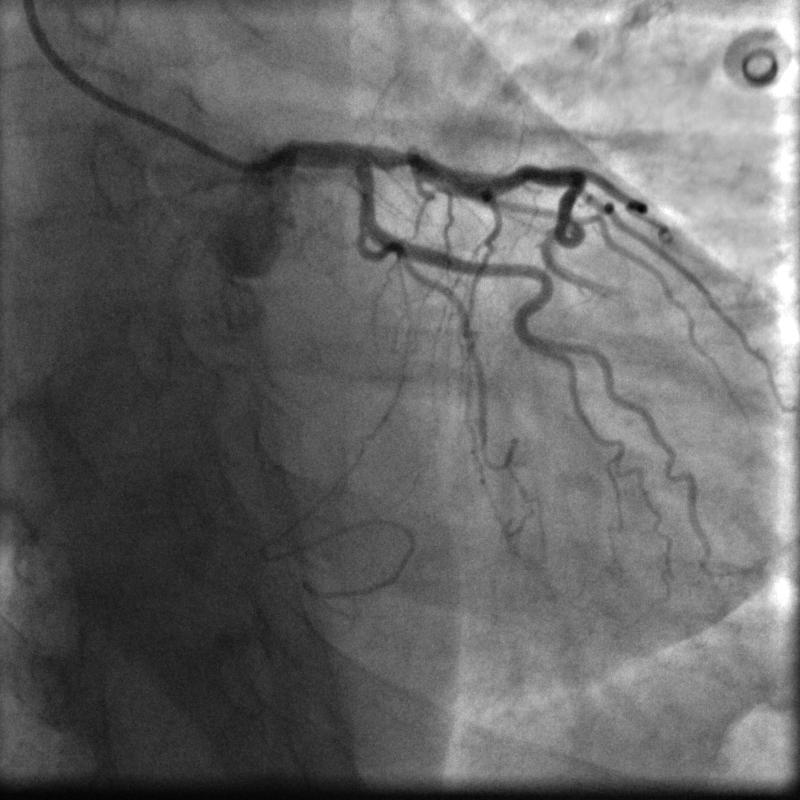Stenosis: (386, 140, 413, 172)
